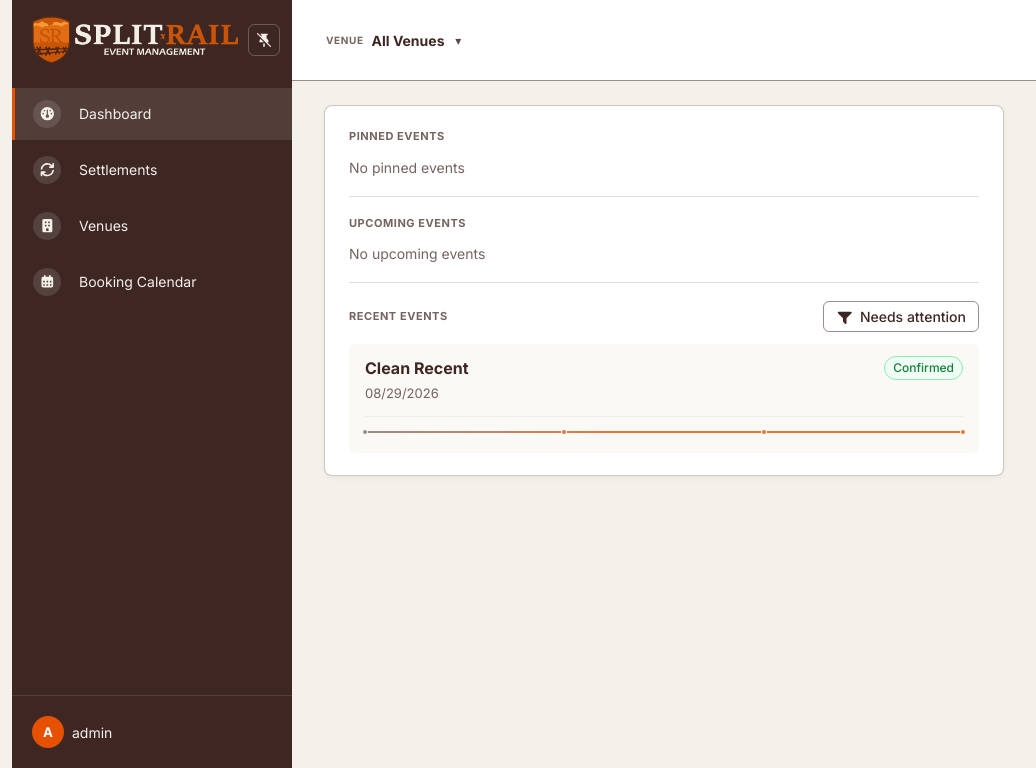
DashboardOverviewPage › bottleneck filter › shows filtered empty message when no recent events need attention
Expected: the element with test id "dashboard-zone-recent" is shown, 349,283 -> 979,462
Click the button with test id "bottleneck-filter-toggle" at {"x": 901, "y": 316}, box 823,301 -> 979,332
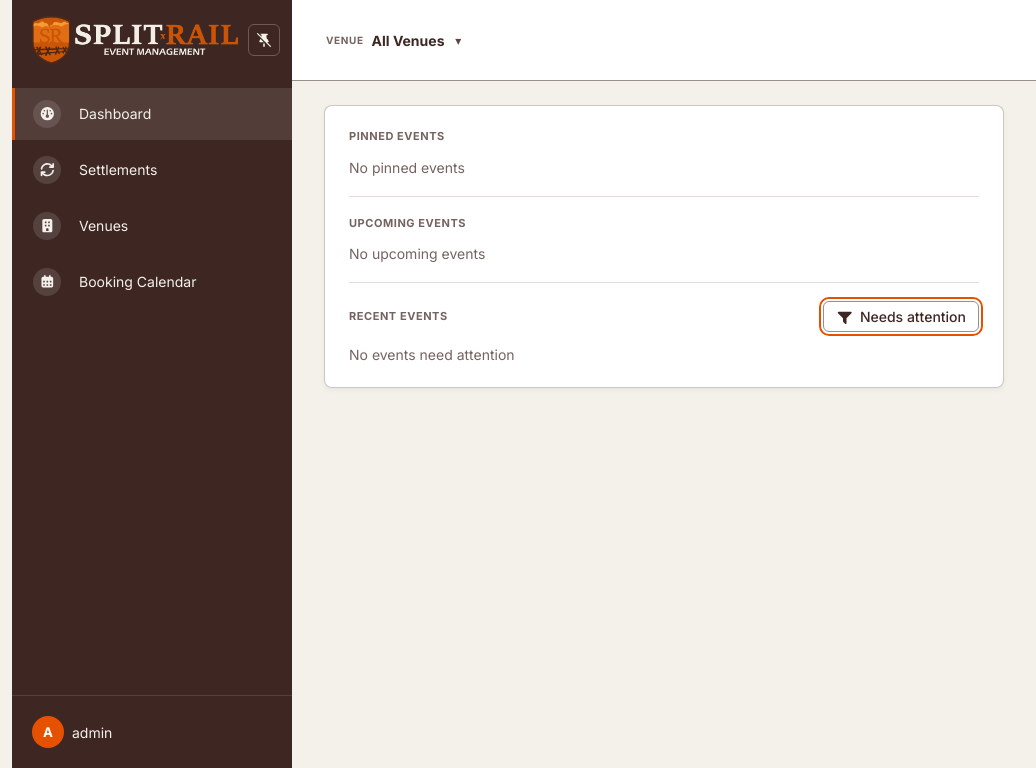
Now the text "No events need attention" is shown, box 349,346 -> 515,363
